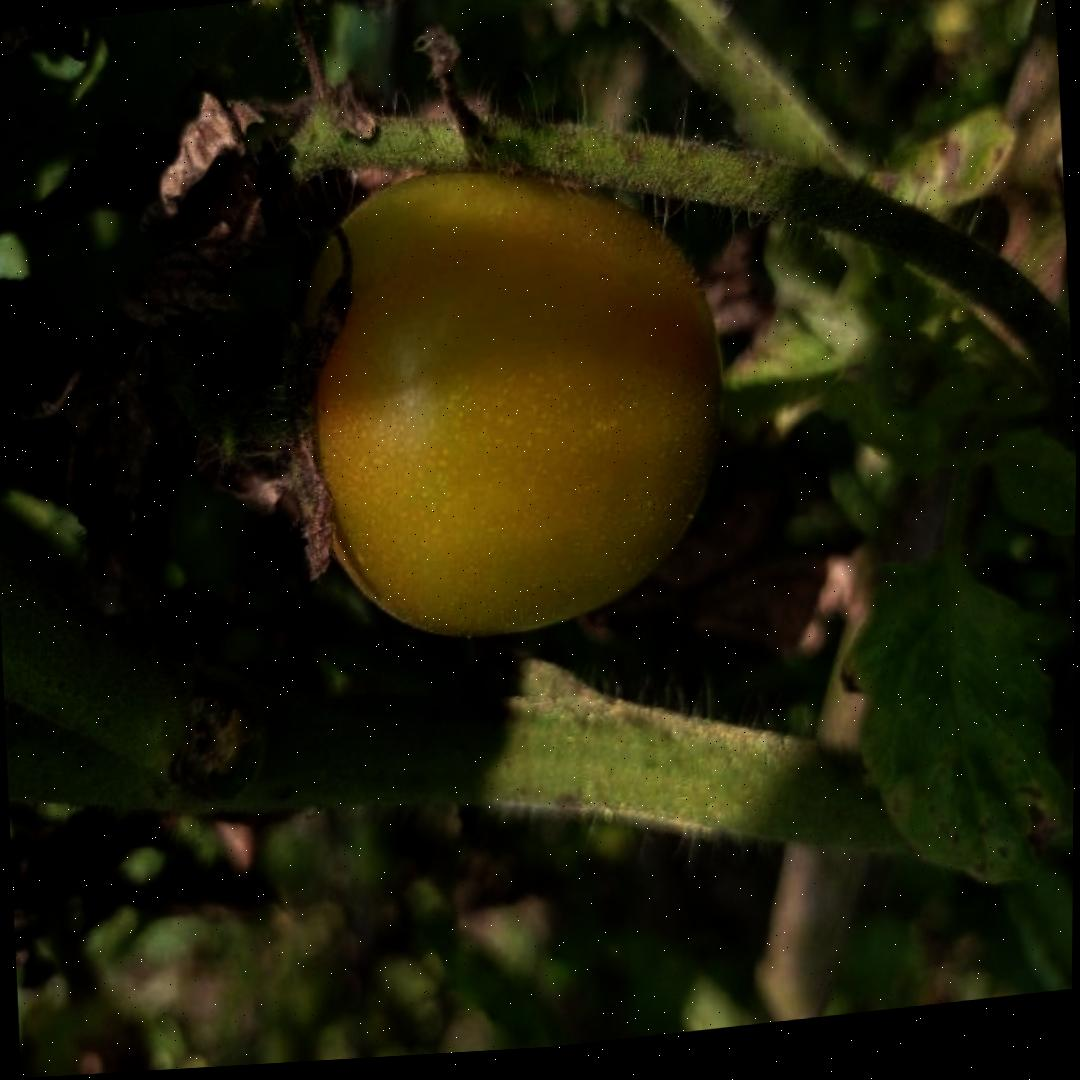setengah_matang: (276, 132, 740, 662)
